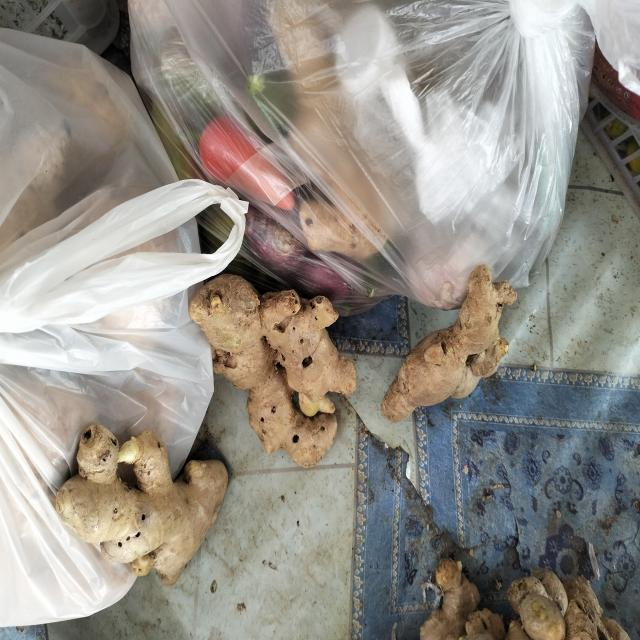ginger: (180, 272, 367, 464), (44, 411, 233, 600), (389, 263, 527, 443)
